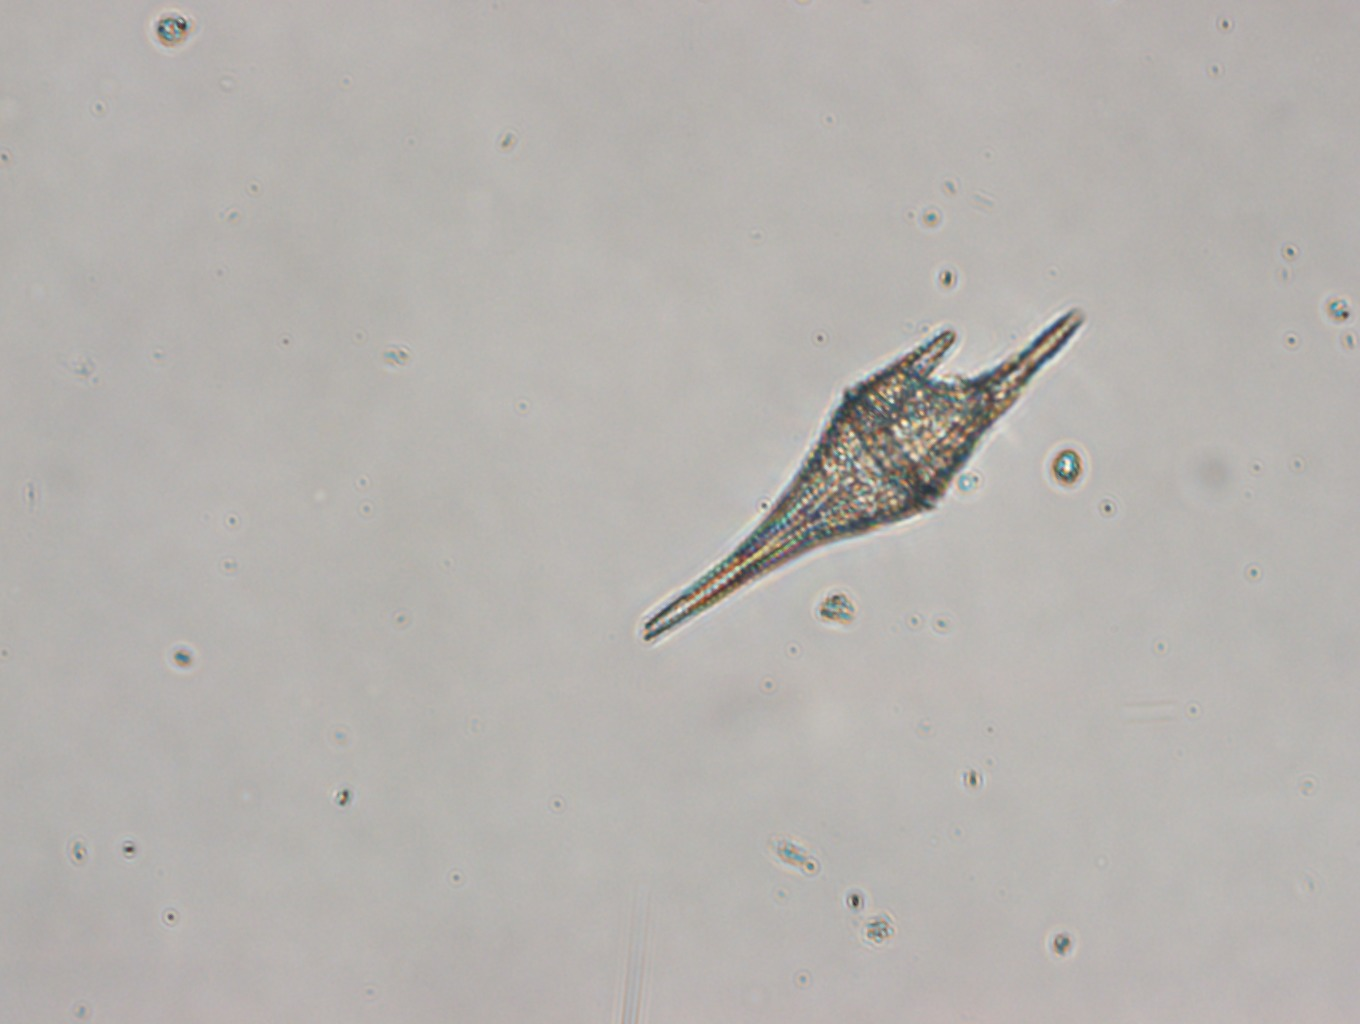ceratium furca: (634, 299, 1093, 644)
